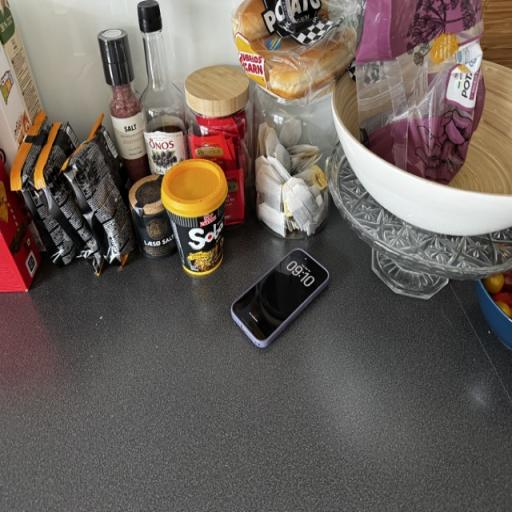phone: (240, 248, 353, 372)
